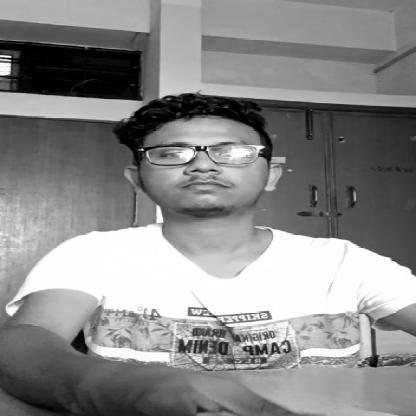Normal: (141, 98, 282, 216)
